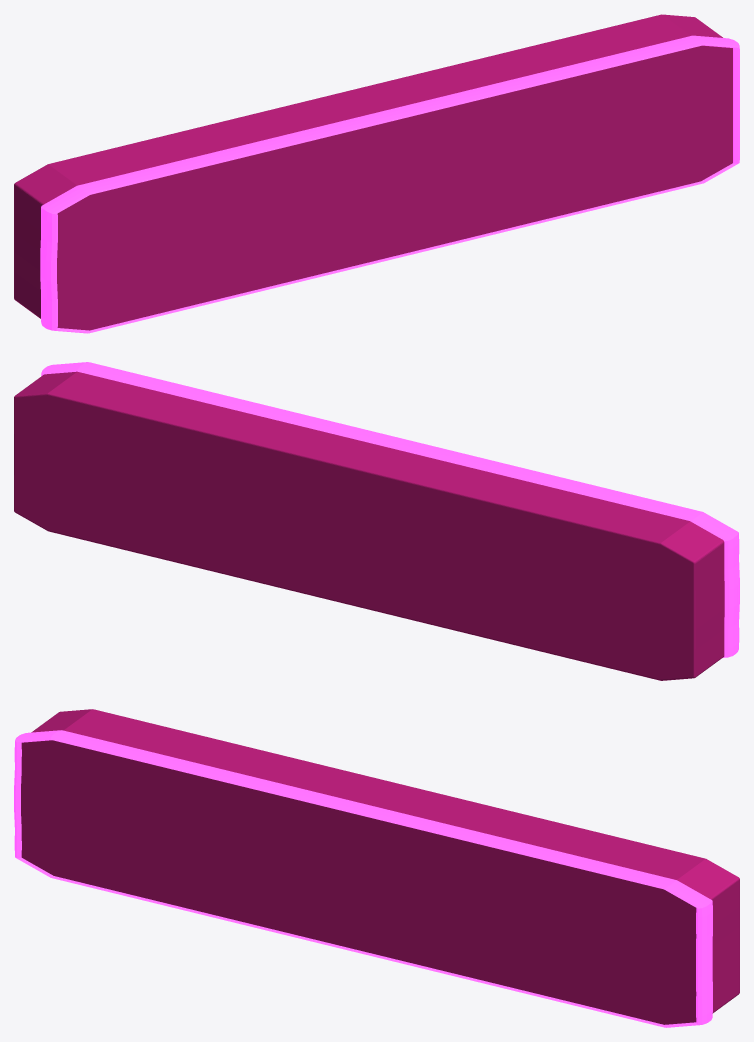
File: ButtonPink.fbx
3 views of the same model, one above another, from view 1: azimuth 30°, elevation 25°; view 2: azimuth 150°, elevation 25°; view 3: azimuth 330°, elevation 25° (orthographic).
Visible parts, largest first — view 1: ButtonPink_Base, ButtonPink_Outline; view 2: ButtonPink_Base, ButtonPink_Outline; view 3: ButtonPink_Base, ButtonPink_Outline.
Boxes of the visible parts, bbox=[...] form: ButtonPink_Base: bbox=[14, 14, 732, 330]; ButtonPink_Outline: bbox=[40, 35, 739, 333]; ButtonPink_Base: bbox=[14, 371, 724, 680]; ButtonPink_Outline: bbox=[41, 362, 739, 657]; ButtonPink_Base: bbox=[21, 709, 739, 1024]; ButtonPink_Outline: bbox=[14, 730, 712, 1027].
Bounding box in the file's own units: 98.19 × 19.17 × 10.47.
